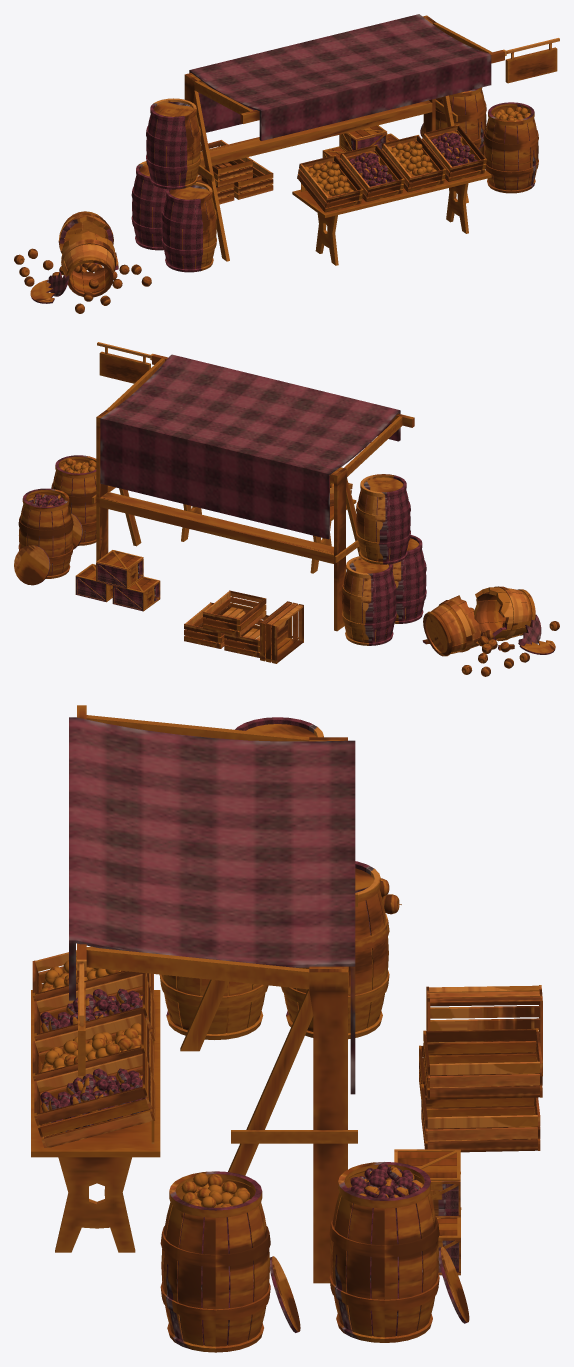
Rendered from Concept_6.fbx.
The picture shows the model from 3 angles, top to bottom: view 1: azimuth 30°, elevation 25°; view 2: azimuth 150°, elevation 25°; view 3: azimuth 270°, elevation 25°; orthographic projection. The views are drawn at different scales.
Visible parts, largest first — view 1: Cube.089, Circle.057, Circle.056, Circle.058, Circle.062, Cube.088, Circle.055, Circle.060, Cube.091, Cube.090, Cube.092, Cube.096 (+6 smaller); view 2: Cube.089, Circle.062, Circle.057, Circle.055, Circle.060, Circle.056, Circle.058, Cube.102, Cube.099, Cube.090, Circle.061, Cube.107 (+7 smaller); view 3: Cube.089, Circle.058, Circle.060, Cube.088, Cube.102, Cube.101, Cube.096, Circle.055, Cube.099, Circle.056, Cube.092, Cube.095 (+7 smaller).
Part boxes in pixels (x1=…): Cube.089: x1=184, y1=14, x2=504, y2=261; Circle.057: x1=146, y1=98, x2=201, y2=189; Circle.056: x1=161, y1=182, x2=216, y2=272; Circle.058: x1=483, y1=102, x2=538, y2=193; Circle.062: x1=58, y1=211, x2=118, y2=297; Cube.088: x1=292, y1=170, x2=491, y2=265; Circle.055: x1=131, y1=161, x2=166, y2=250; Circle.060: x1=435, y1=87, x2=486, y2=148; Cube.091: x1=297, y1=155, x2=363, y2=212; Cube.090: x1=503, y1=38, x2=559, y2=83; Cube.092: x1=340, y1=144, x2=404, y2=201; Cube.096: x1=422, y1=124, x2=486, y2=181; Cube.089: x1=92, y1=354, x2=414, y2=631; Circle.062: x1=422, y1=586, x2=535, y2=656; Circle.057: x1=356, y1=474, x2=410, y2=564; Circle.055: x1=341, y1=556, x2=396, y2=645; Circle.060: x1=18, y1=488, x2=73, y2=578; Circle.056: x1=392, y1=535, x2=426, y2=623; Circle.058: x1=51, y1=455, x2=96, y2=545; Cube.102: x1=203, y1=590, x2=266, y2=636; Cube.099: x1=260, y1=601, x2=303, y2=663; Cube.090: x1=97, y1=342, x2=153, y2=383; Circle.061: x1=14, y1=545, x2=50, y2=585; Cube.107: x1=96, y1=558, x2=143, y2=588; Cube.089: x1=69, y1=705, x2=357, y2=1283; Circle.058: x1=160, y1=1171, x2=270, y2=1352; Circle.060: x1=329, y1=1162, x2=439, y2=1342; Cube.088: x1=31, y1=990, x2=160, y2=1252; Cube.102: x1=423, y1=1028, x2=542, y2=1099; Cube.101: x1=421, y1=1084, x2=540, y2=1152; Cube.096: x1=34, y1=1053, x2=155, y2=1147; Circle.055: x1=281, y1=861, x2=389, y2=1039; Cube.099: x1=426, y1=985, x2=542, y2=1075; Circle.056: x1=159, y1=974, x2=268, y2=1039; Cube.092: x1=34, y1=973, x2=155, y2=1063; Cube.095: x1=32, y1=1013, x2=153, y2=1092.
Size of the model in its own units: 373 by 121 by 166.
